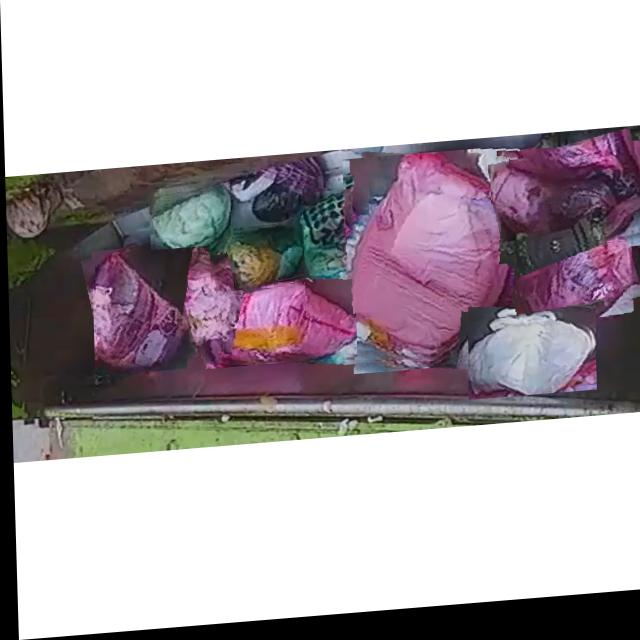general_trashbag: (301, 196, 361, 318), (208, 229, 300, 293), (149, 189, 228, 251)
other_trashbag: (344, 160, 522, 368), (512, 208, 628, 337), (202, 287, 353, 367), (489, 174, 640, 252), (95, 255, 185, 372), (466, 319, 589, 404), (165, 249, 220, 356)
